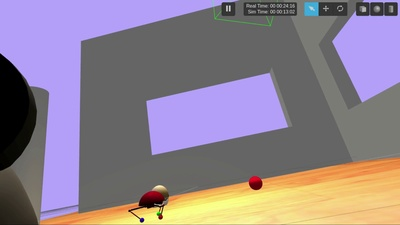mira_robot: (152, 185, 170, 206)
